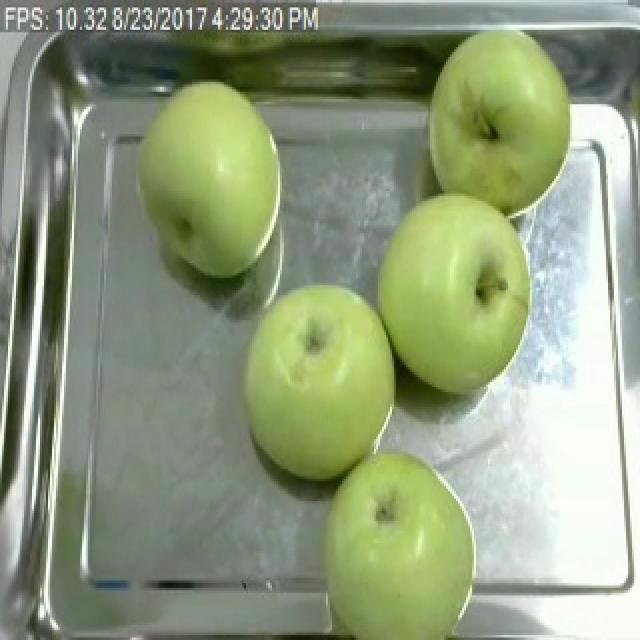50-_ripeness: (369, 188, 571, 378), (119, 81, 300, 292), (394, 27, 591, 209), (308, 447, 492, 618), (225, 296, 388, 481)
